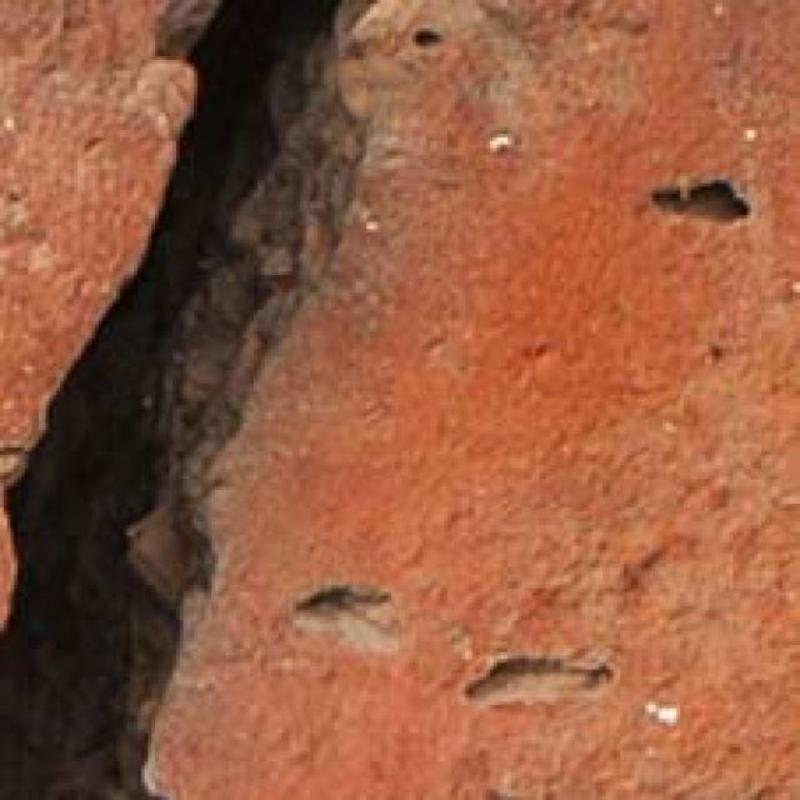crack: (0, 0, 362, 799)
